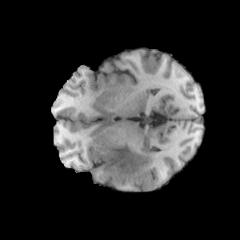glioma: (102, 145, 153, 185)
